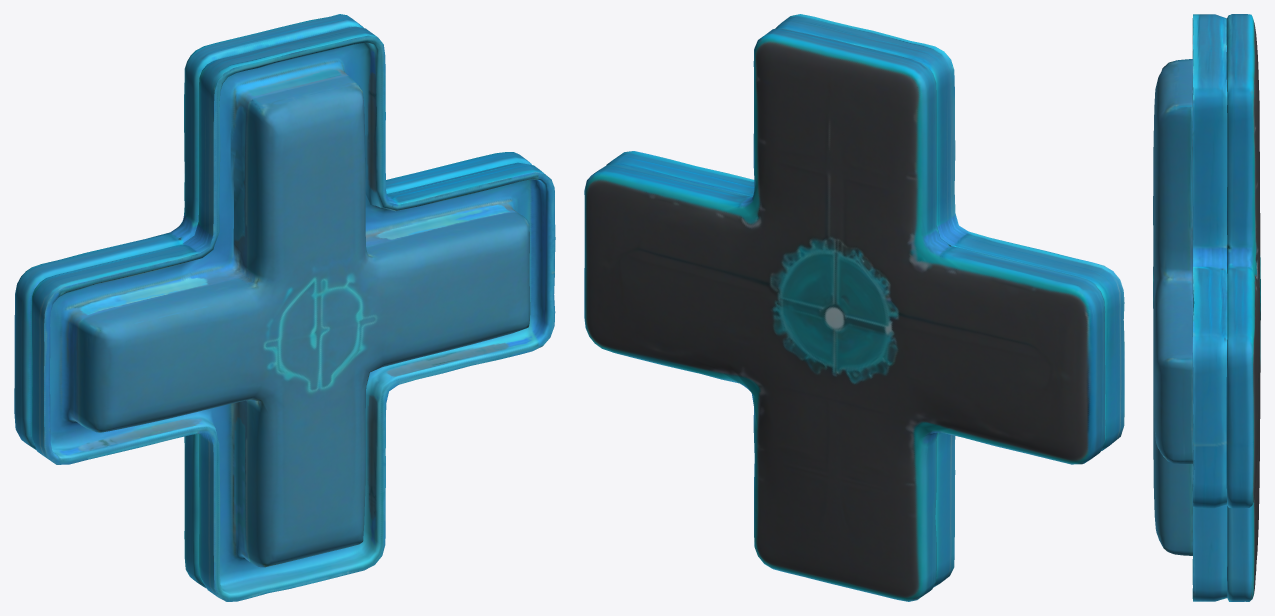
Rendered from A_T_junction_wall_til_0926195853_texture.fbx.
3 renders of one model, left to right at view 1: azimuth 30°, elevation 25°; view 2: azimuth 150°, elevation 25°; view 3: azimuth 270°, elevation 25°, orthographic. The views are drawn at different scales.
Visible parts, largest first — view 1: Mesh0; view 2: Mesh0; view 3: Mesh0.
Part boxes in pixels (bbox=[...]): Mesh0: bbox=[14, 14, 555, 601]; Mesh0: bbox=[584, 14, 1124, 601]; Mesh0: bbox=[1153, 14, 1260, 601].
Size of the model in its own units: 191 by 191 by 35.75.
Materials: 1 (1 with a texture image).
